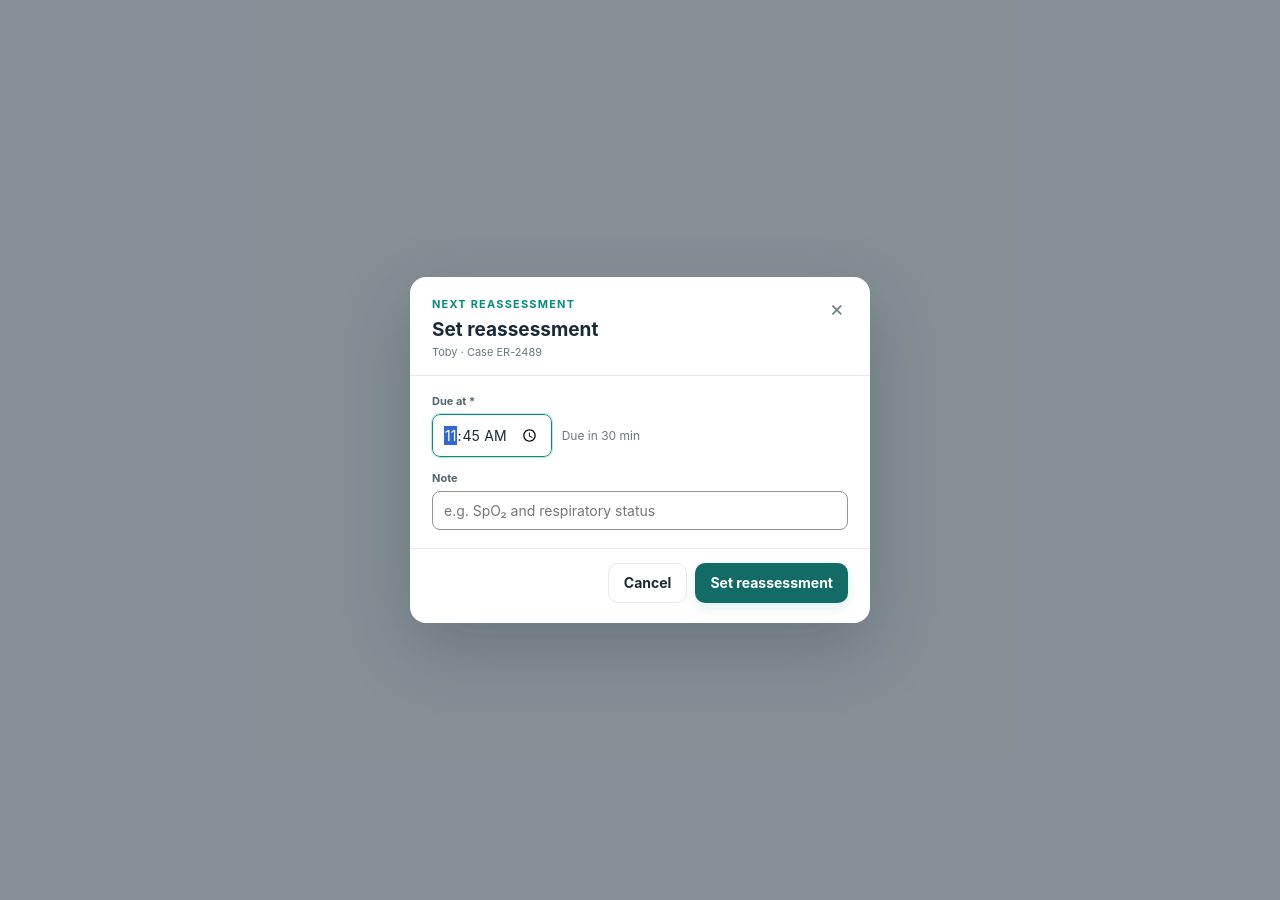
it: DueItemDialog › asks for a time before sending anything
The width and height of the screenshot is (1280, 900).
Clear the time field labelled "Due at *" at (492, 436), box x1=432 y1=414 x2=552 y2=457
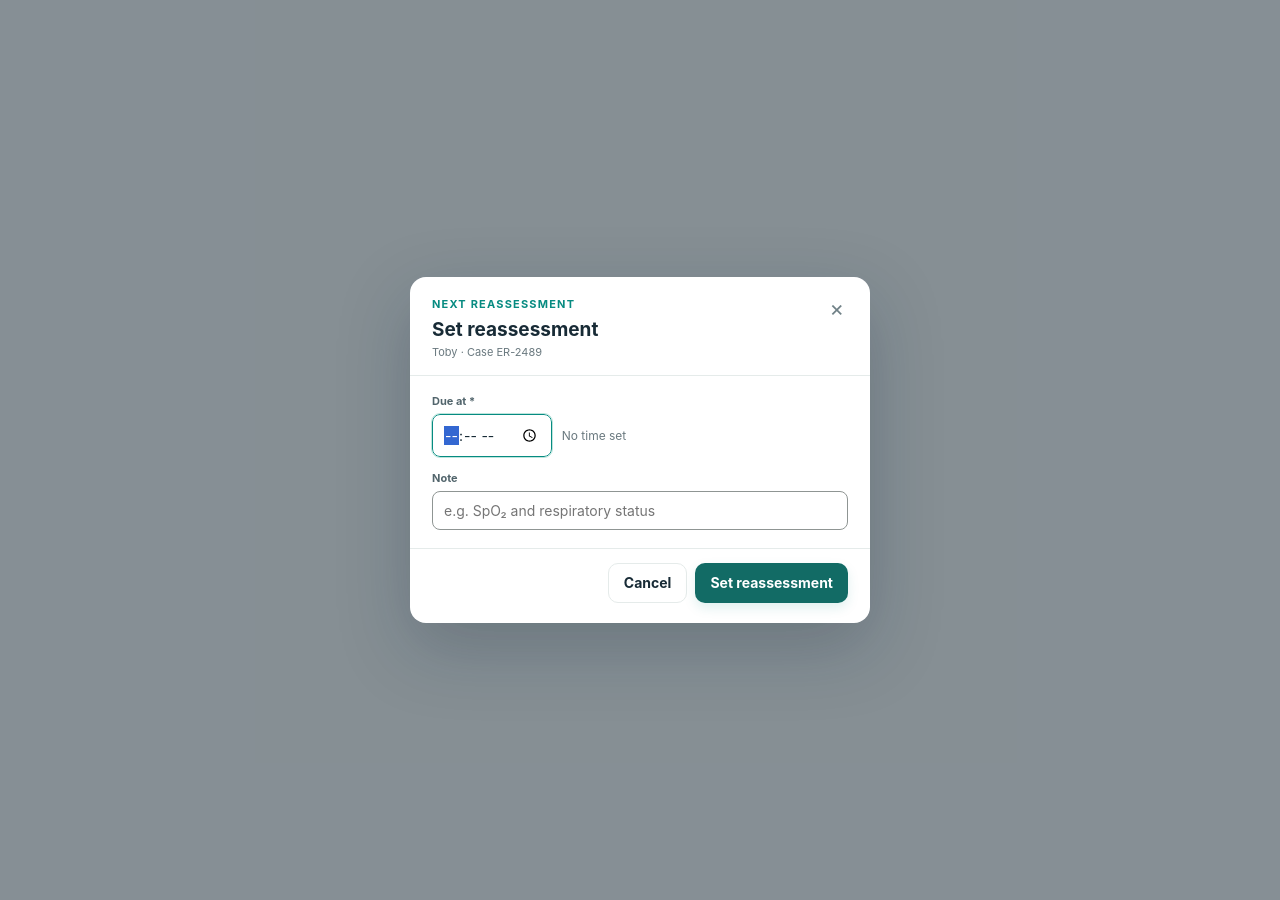
Expected: the text "No time set" is shown, x1=562 y1=428 x2=626 y2=443
Click the button "Set reassessment" at (772, 583), box x1=695 y1=563 x2=848 y2=603
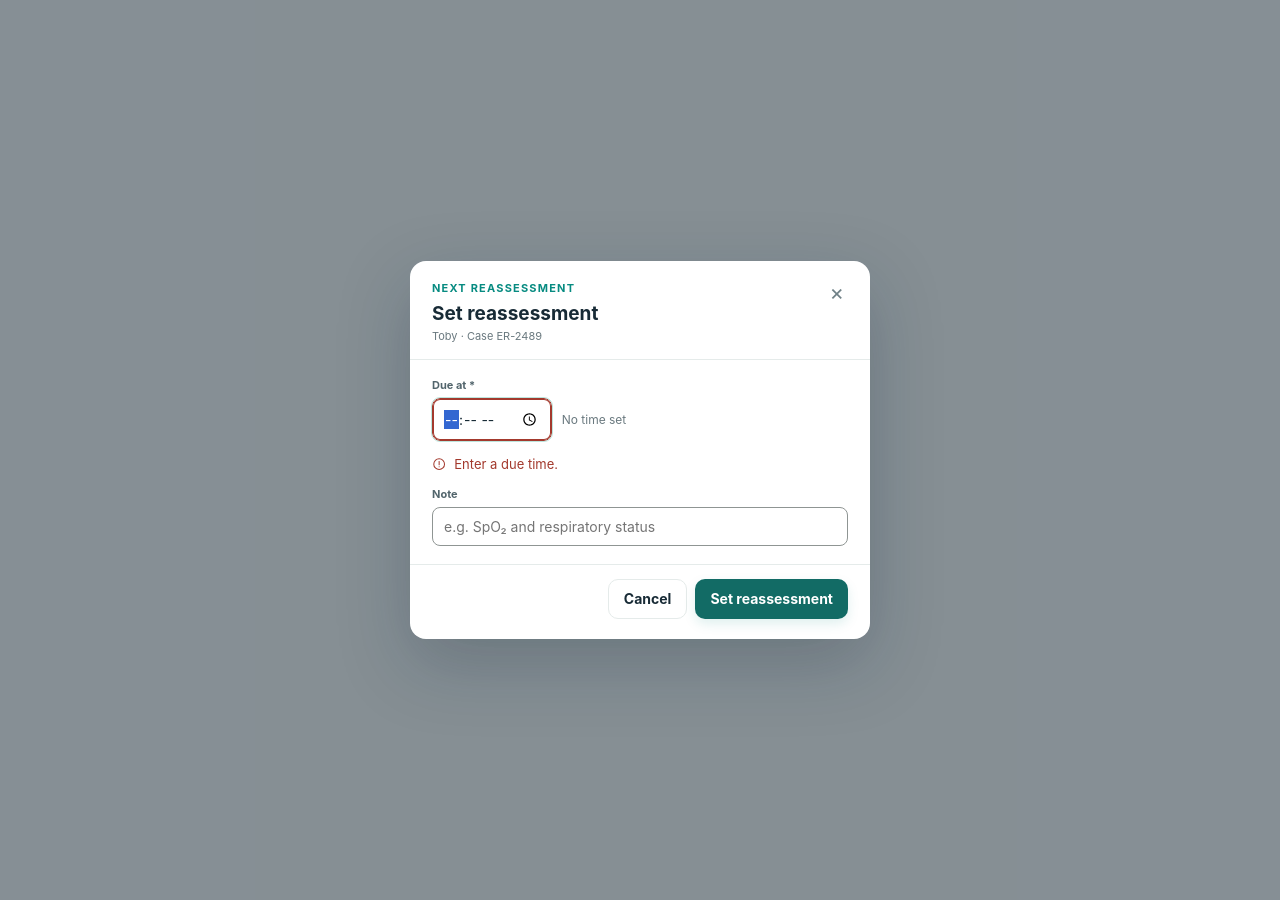
Expected: the text "Enter a due time." is shown, x1=432 y1=456 x2=558 y2=472
